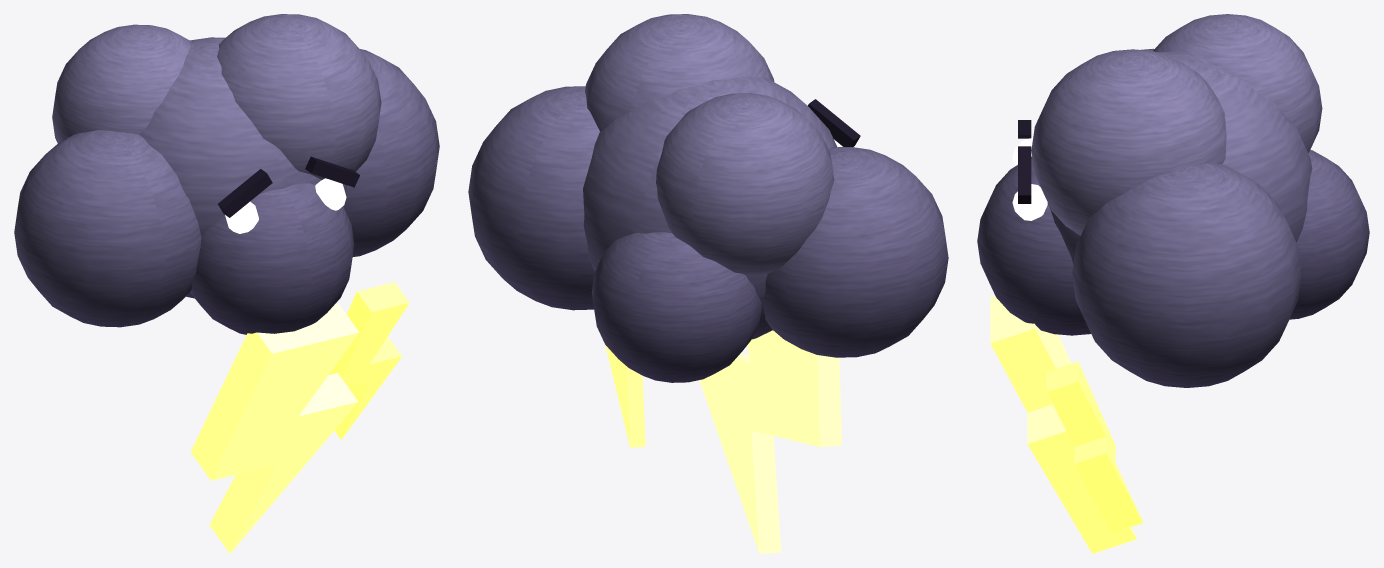
File: 16ee2323-72ac-4497-98ac-790fbcaba934.glb
3 renders of one model, left to right at view 1: azimuth 30°, elevation 25°; view 2: azimuth 150°, elevation 25°; view 3: azimuth 270°, elevation 25°, orthographic. The views are drawn at different scales.
Parts seen in each view (by area): view 1: Body; view 2: Body; view 3: Body.
Part boxes in pixels (box(x1,y1,x2,y2)): Body: box(14, 14, 439, 553); Body: box(468, 14, 948, 553); Body: box(977, 14, 1369, 553).
Bounding box in the file's own units: 0.76 × 0.8732 × 0.58.
4 materials, 1 textured.
